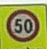limite 50: (5, 7, 39, 42)
